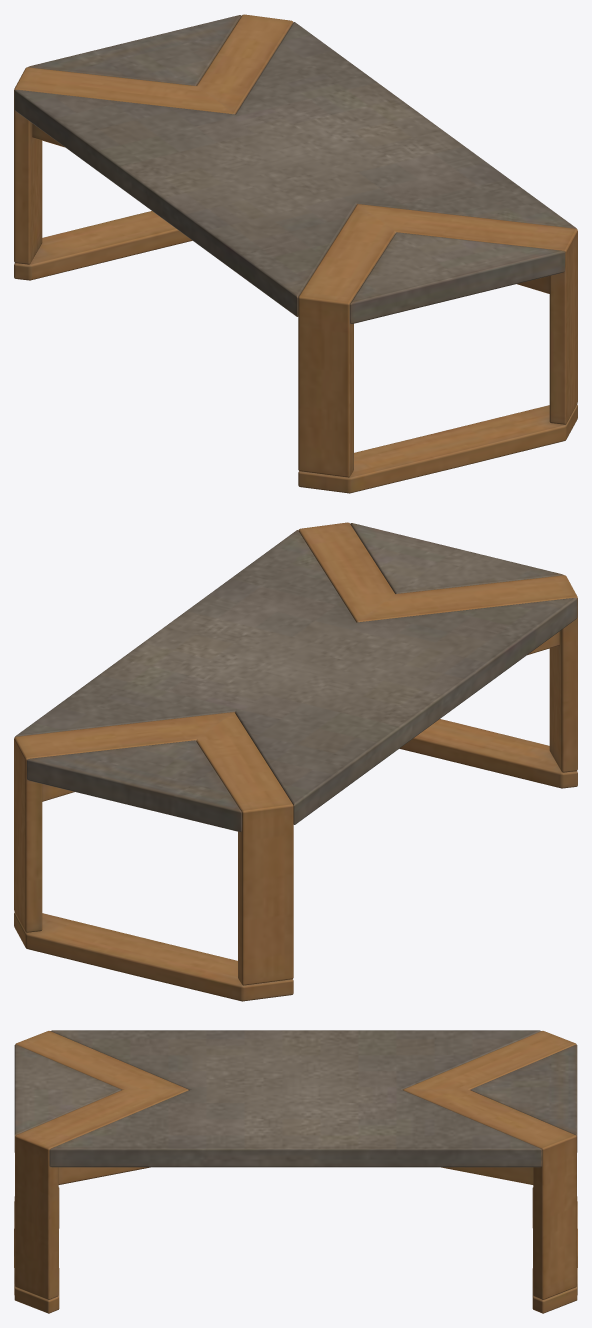
File: modern_coffee_table_01.glb
3 renders of one model, top to bottom at view 1: azimuth 30°, elevation 25°; view 2: azimuth 150°, elevation 25°; view 3: azimuth 270°, elevation 25°, orthographic. The views are drawn at different scales.
Parts seen in each view (by area): view 1: modern_coffee_table_01; view 2: modern_coffee_table_01; view 3: modern_coffee_table_01.
Boxes of the visible parts, box(x1,y1,x2,y2) form: modern_coffee_table_01: box(14, 14, 577, 493); modern_coffee_table_01: box(14, 522, 577, 1001); modern_coffee_table_01: box(14, 1030, 577, 1313).
Size of the model in its own units: 0.6 by 0.3898 by 1.2.
1 material, 1 textured.
